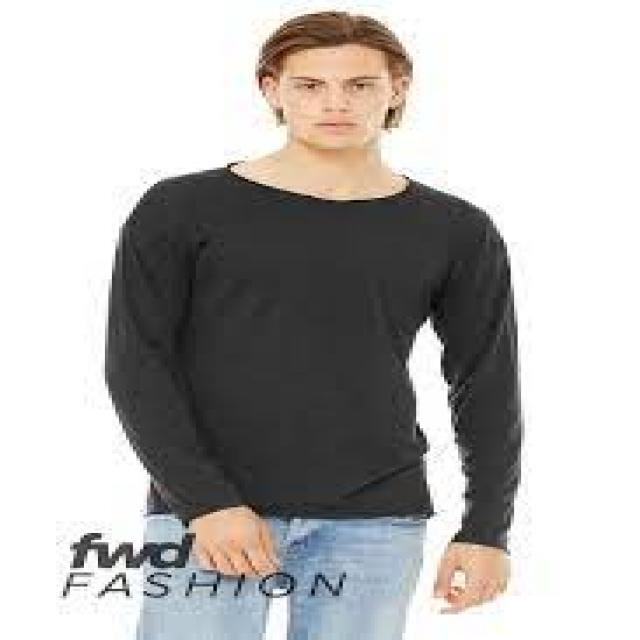plain: (101, 156, 529, 548)
